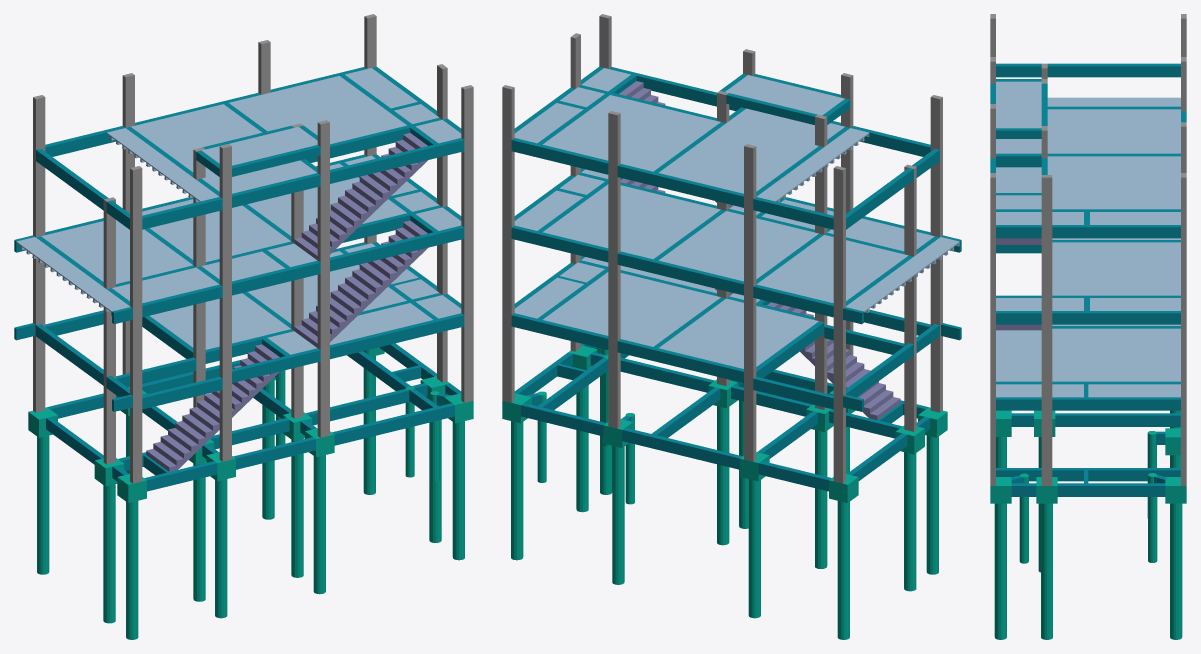
The picture shows the model from 3 angles, left to right: view 1: azimuth 30°, elevation 25°; view 2: azimuth 150°, elevation 25°; view 3: azimuth 270°, elevation 25°; orthographic projection.
Parts seen in each view (by area): view 1: object 1, Pavimento_2-Concrdadoajes, Cobertura-Concrdadoajes, Cobertura-Concrado_ares, object 2, Pavimento_1-Concrdadoigas, Cobertura-Concrdadoigas, Pavimento_1-Concrdadoajes, Pavimento_1-Concrado_ares, Pavimento_2-Concrdadoigas, Pavimento_2-Concrado_ares, Pavimento_1-Concrado_adas (+5 smaller); view 2: object 1, Pavimento_2-Concrdadoajes, Cobertura-Concrdadoajes, Pavimento_1-Concrdadoajes, object 2, Cobertura-Concrado_ares, Pavimento_1-Concrdadoigas, Cobertura-Concrdadoigas, Pavimento_2-Concrdadoigas, Pavimento_1-Concrado_ares, Pavimento_2-Concrado_ares, object 4 (+3 smaller); view 3: Cobertura-Concrdadoajes, Pavimento_1-Concrdadoajes, Pavimento_2-Concrdadoajes, object 1, Cobertura-Concrdadoigas, object 2, Cobertura-Concrado_ares, Pavimento_2-Concrdadoigas, Pavimento_1-Concrdadoigas, Pavimento_1-Concrado_ares, object 4, Pavimento_2-Concrado_ares (+4 smaller).
Part boxes in pixels (x1,y1,x2,y2): object 1: (28, 347, 473, 639); Pavimento_2-Concrdadoajes: (16, 155, 461, 315); Cobertura-Concrdadoajes: (106, 68, 461, 202); Cobertura-Concrado_ares: (33, 14, 473, 308); object 2: (46, 343, 461, 491); Pavimento_1-Concrdadoigas: (14, 242, 464, 411); Cobertura-Concrdadoigas: (36, 66, 464, 229); Pavimento_1-Concrdadoajes: (150, 243, 461, 354); Pavimento_1-Concrado_ares: (33, 243, 473, 483); Pavimento_2-Concrdadoigas: (14, 154, 464, 324); Pavimento_2-Concrado_ares: (33, 155, 473, 395); Pavimento_1-Concrado_adas: (146, 344, 279, 471); object 1: (502, 345, 947, 639); Pavimento_2-Concrdadoajes: (514, 169, 959, 312); Cobertura-Concrdadoajes: (514, 68, 869, 202); Pavimento_1-Concrdadoajes: (514, 257, 818, 368); object 2: (514, 343, 929, 491); Cobertura-Concrado_ares: (502, 14, 942, 308); Pavimento_1-Concrdadoigas: (511, 256, 961, 411); Cobertura-Concrdadoigas: (511, 66, 939, 229); Pavimento_2-Concrdadoigas: (511, 168, 961, 324); Pavimento_1-Concrado_ares: (502, 253, 942, 483); Pavimento_2-Concrado_ares: (502, 166, 942, 395); object 4: (725, 75, 844, 115); Cobertura-Concrdadoajes: (996, 97, 1180, 224); Pavimento_1-Concrdadoajes: (996, 324, 1180, 397); Pavimento_2-Concrdadoajes: (996, 167, 1180, 310); object 1: (990, 410, 1186, 639); Cobertura-Concrdadoigas: (990, 63, 1186, 238); object 2: (996, 411, 1180, 496); Cobertura-Concrado_ares: (990, 14, 1186, 313); Pavimento_2-Concrdadoigas: (996, 193, 1180, 324); Pavimento_1-Concrdadoigas: (996, 326, 1180, 410); Pavimento_1-Concrado_ares: (990, 350, 1186, 485); object 4: (996, 81, 1041, 128); Pavimento_2-Concrado_ares: (990, 263, 1186, 399).
Size of the model in its own units: 1340 by 1681 by 645.
